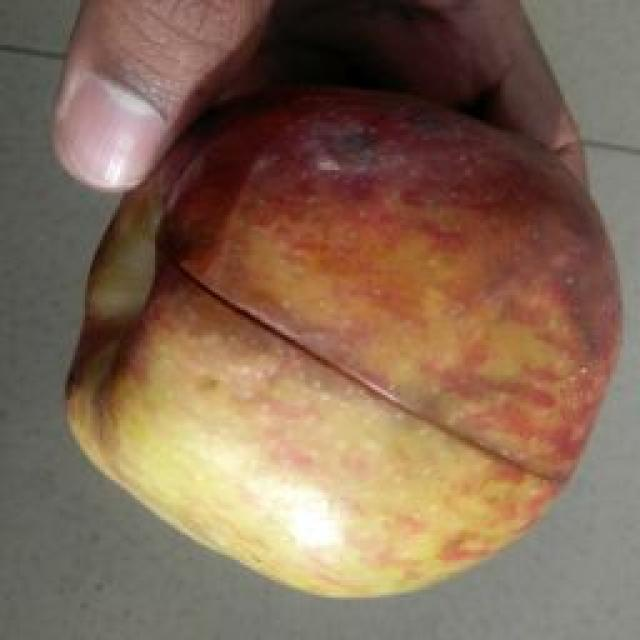Bad_Apple: (68, 94, 618, 596)
